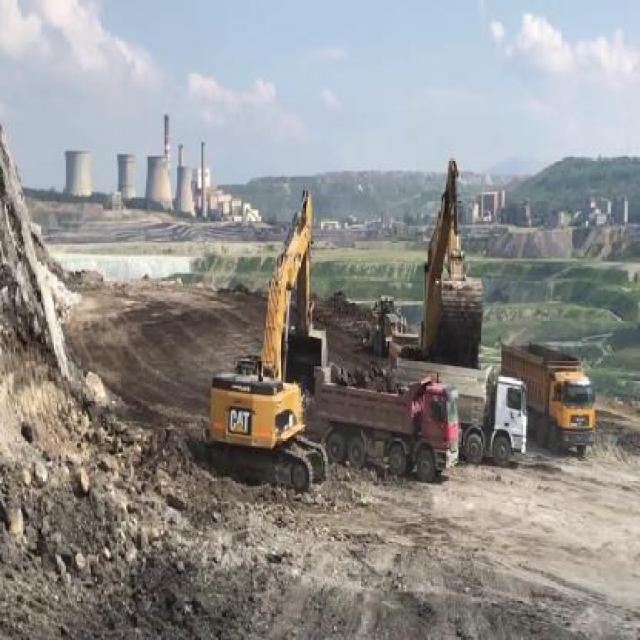Dump Truck: (312, 377, 457, 483), (501, 340, 594, 455), (457, 366, 526, 465)
Excavator: (204, 187, 330, 479), (414, 153, 486, 359)
